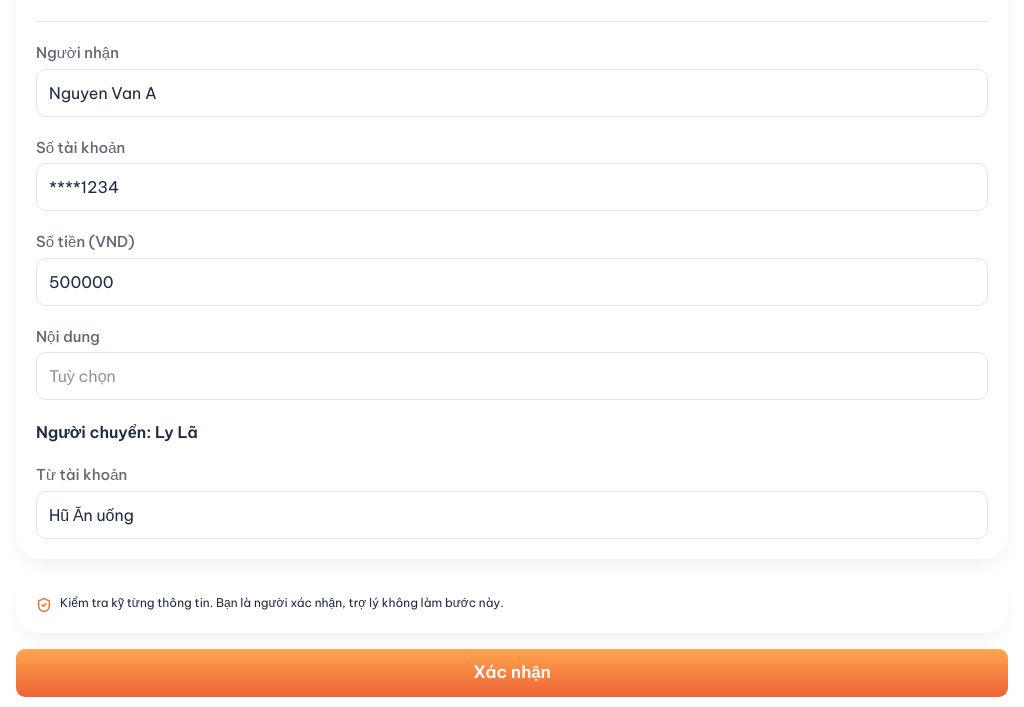
Test: TransferConfirm — always create + categorize › a provider failure surfaces an error and stays retryable (no permanent lock)
(page scrolled)
Click the button with aria-label "Xác nhận chuyển tiền" at (512, 672), box [16,648,1008,696]
(page scrolled)
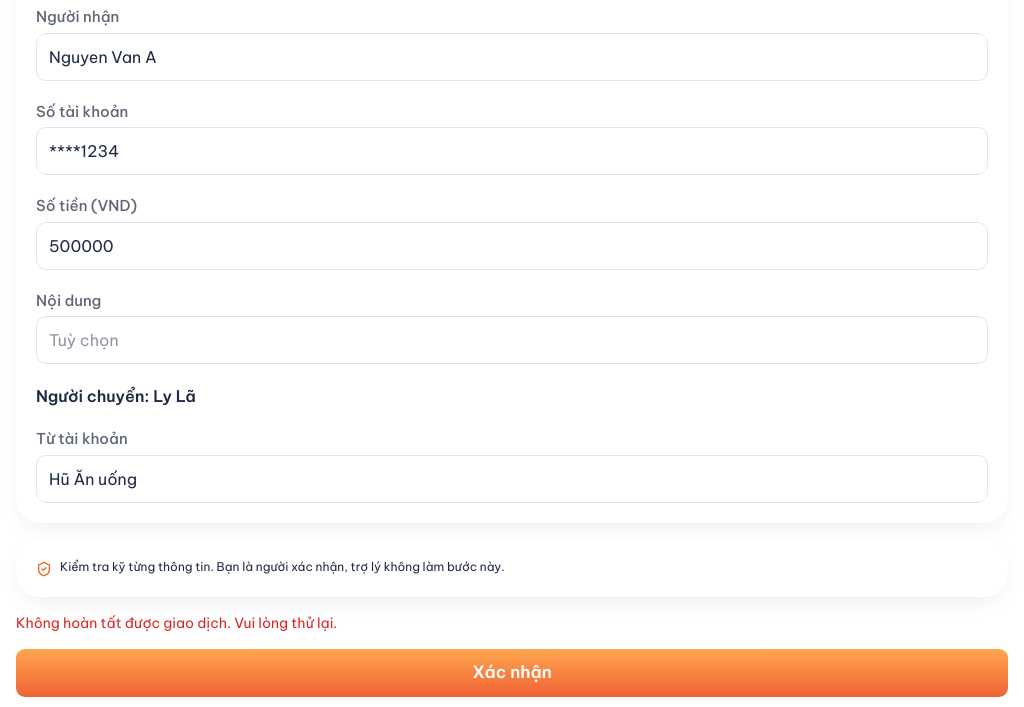
Check: the text "Không hoàn tất được giao dịch. Vui lòng thử lại." is shown, box [16,614,337,632]
# Retry now succeeds — the latch was released.
Click the button with aria-label "Xác nhận chuyển tiền" at (512, 672), box [16,648,1008,696]
(page scrolled)
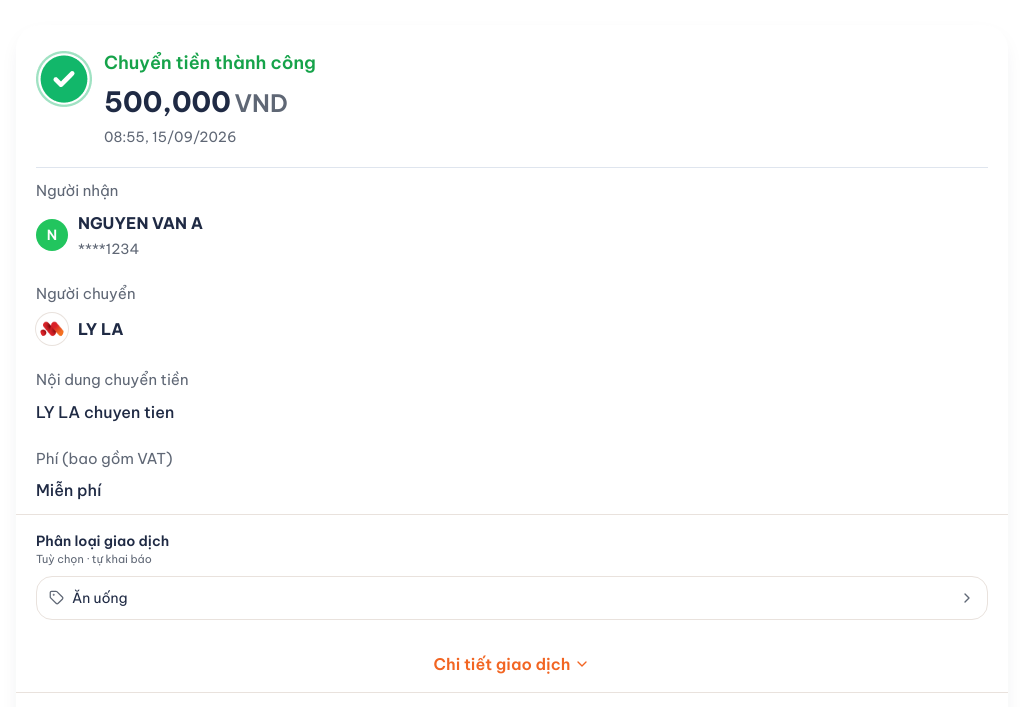
Check: the text "Chuyển tiền thành công" is shown, box [104,49,316,77]
